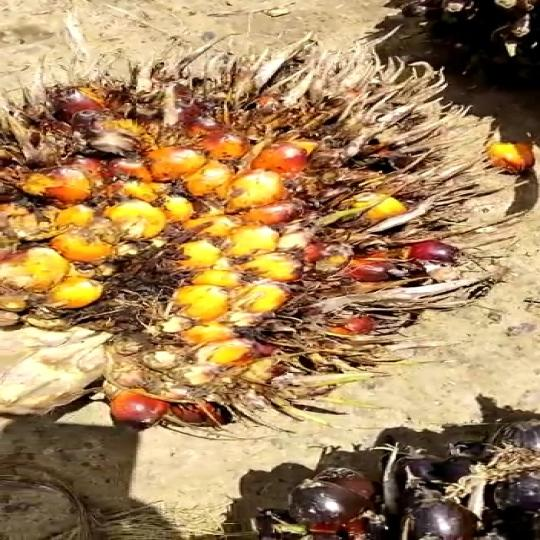terlalu masak: (0, 29, 508, 440)
